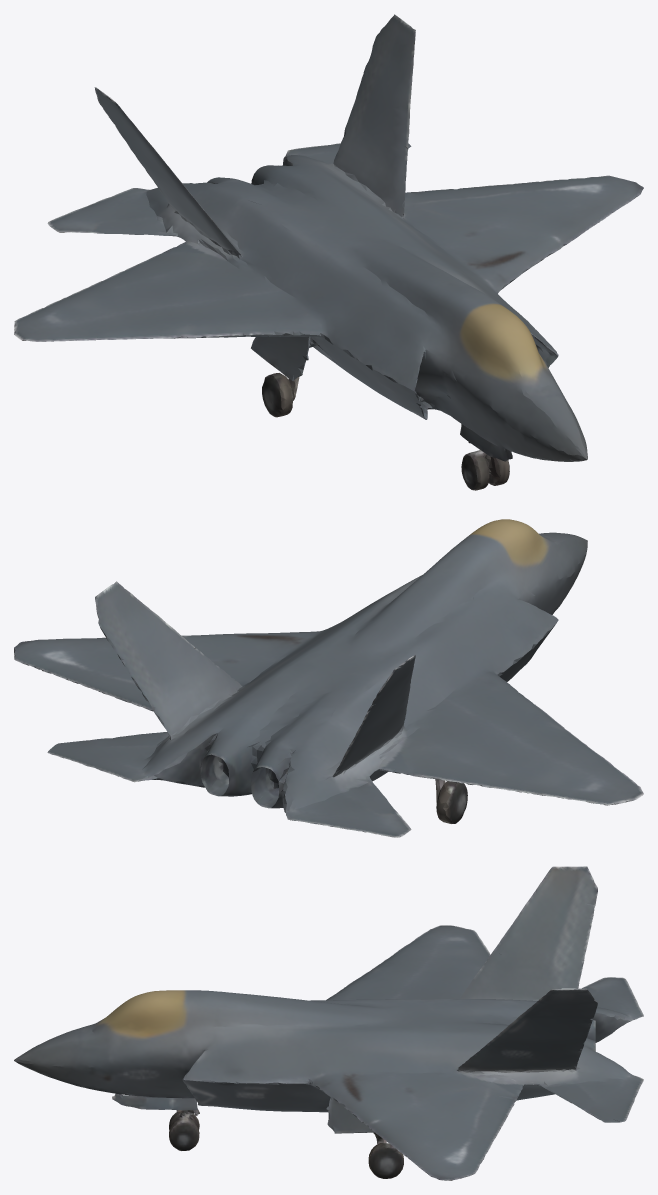
Rendered from J-35_Carrier_Variant_AI_Rodin.glb.
3 renders of one model, top to bottom at view 1: azimuth 30°, elevation 25°; view 2: azimuth 150°, elevation 25°; view 3: azimuth 270°, elevation 25°, orthographic. The views are drawn at different scales.
Visible parts, largest first — view 1: model; view 2: model; view 3: model.
Part boxes in pixels (x1,y1,x2,y2): model: (14,14,643,490); model: (14,519,643,837); model: (14,866,643,1180).
Bounding box in the file's own units: 1.82 × 0.7239 × 1.9.
Materials: 1 (1 with a texture image).
